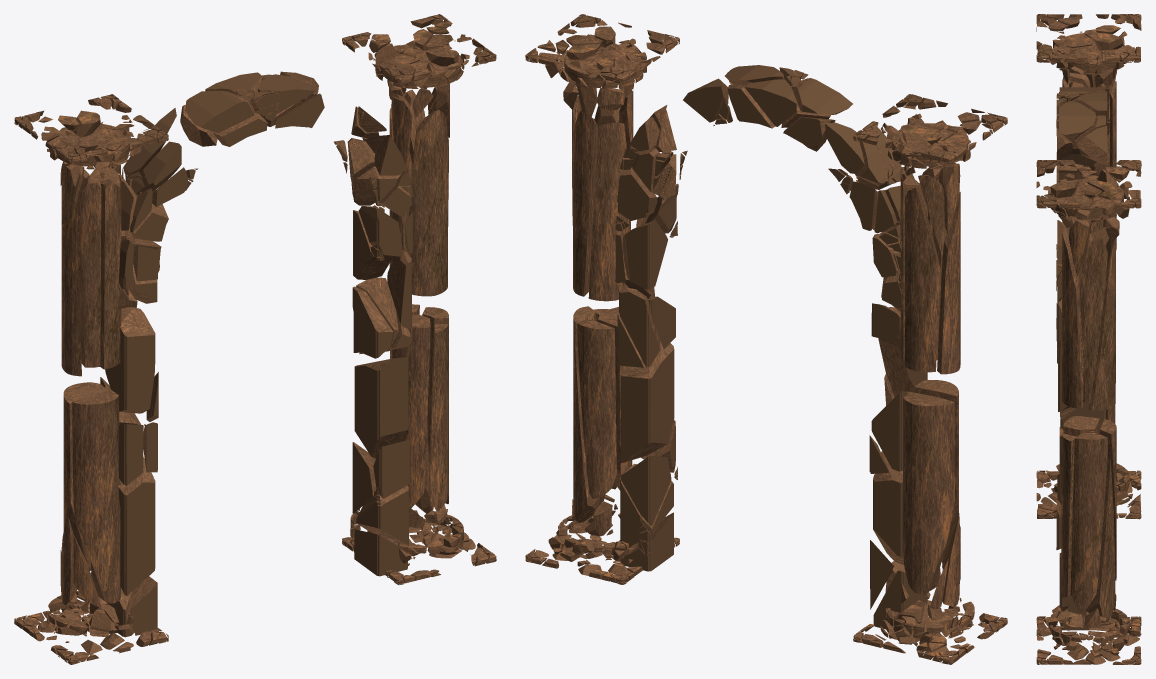
Rendered from σé│ΘÇüΘûÇ.fbx.
3 views of the same model, side by side, from view 1: azimuth 30°, elevation 25°; view 2: azimuth 150°, elevation 25°; view 3: azimuth 270°, elevation 25° (orthographic). The views are drawn at different scales.
Visible parts, largest first — view 1: 圓形_cell.001; view 2: 圓形_cell.001; view 3: 圓形_cell.001.
Part boxes in pixels (left/top/right/bottom): 圓形_cell.001: left=14, top=14, right=496, bottom=664; 圓形_cell.001: left=525, top=14, right=1007, bottom=664; 圓形_cell.001: left=1036, top=14, right=1141, bottom=664.
Bounding box in the file's own units: 413 × 475 × 96.43.
1 material, 1 textured.
